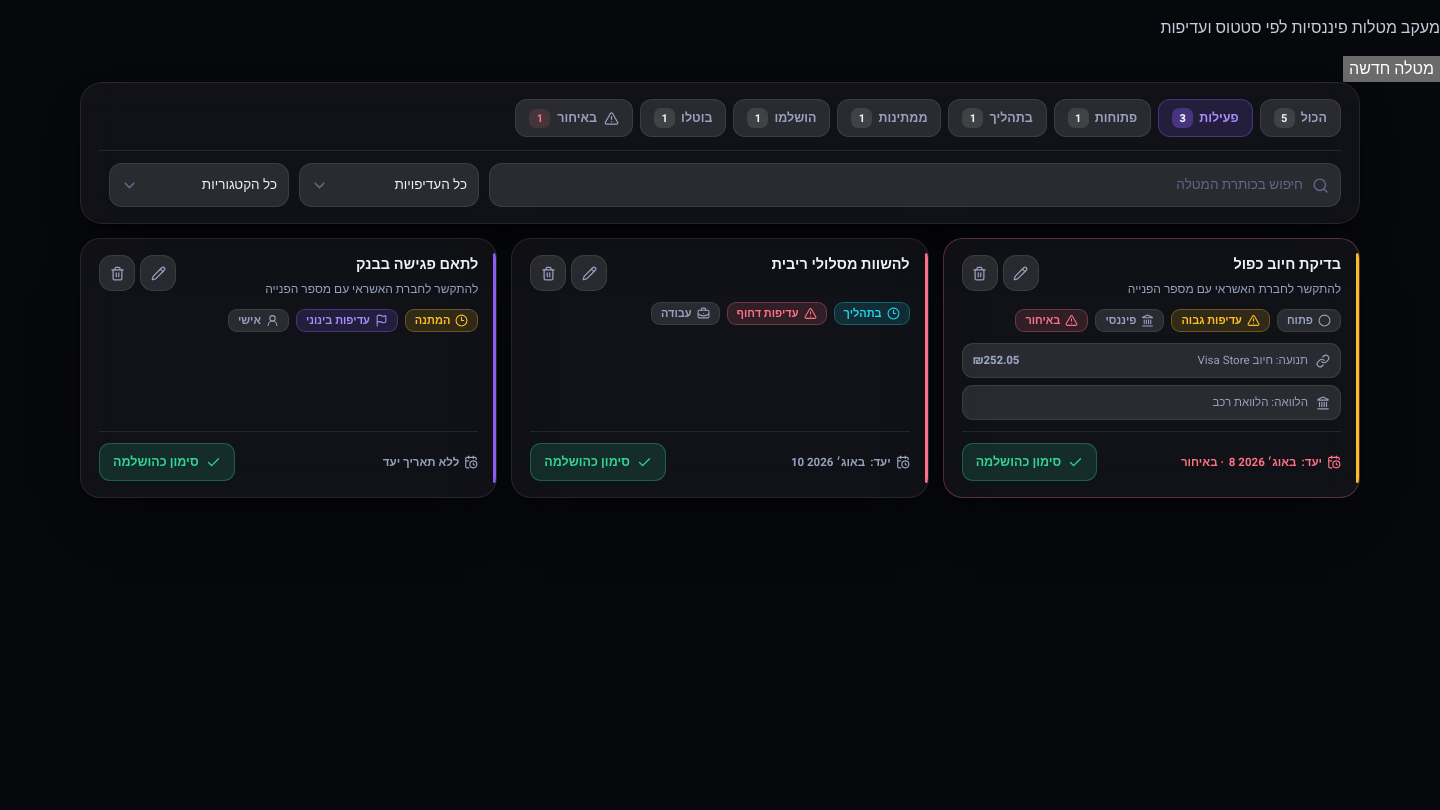
Tasks status and deletion mutations › uses accessible confirmation, cancels safely, and retains the task after delete failure
Click the button named "מחיקת המטלה בדיקת חיוב כפול" at (980, 273), box [962, 255, 998, 291]
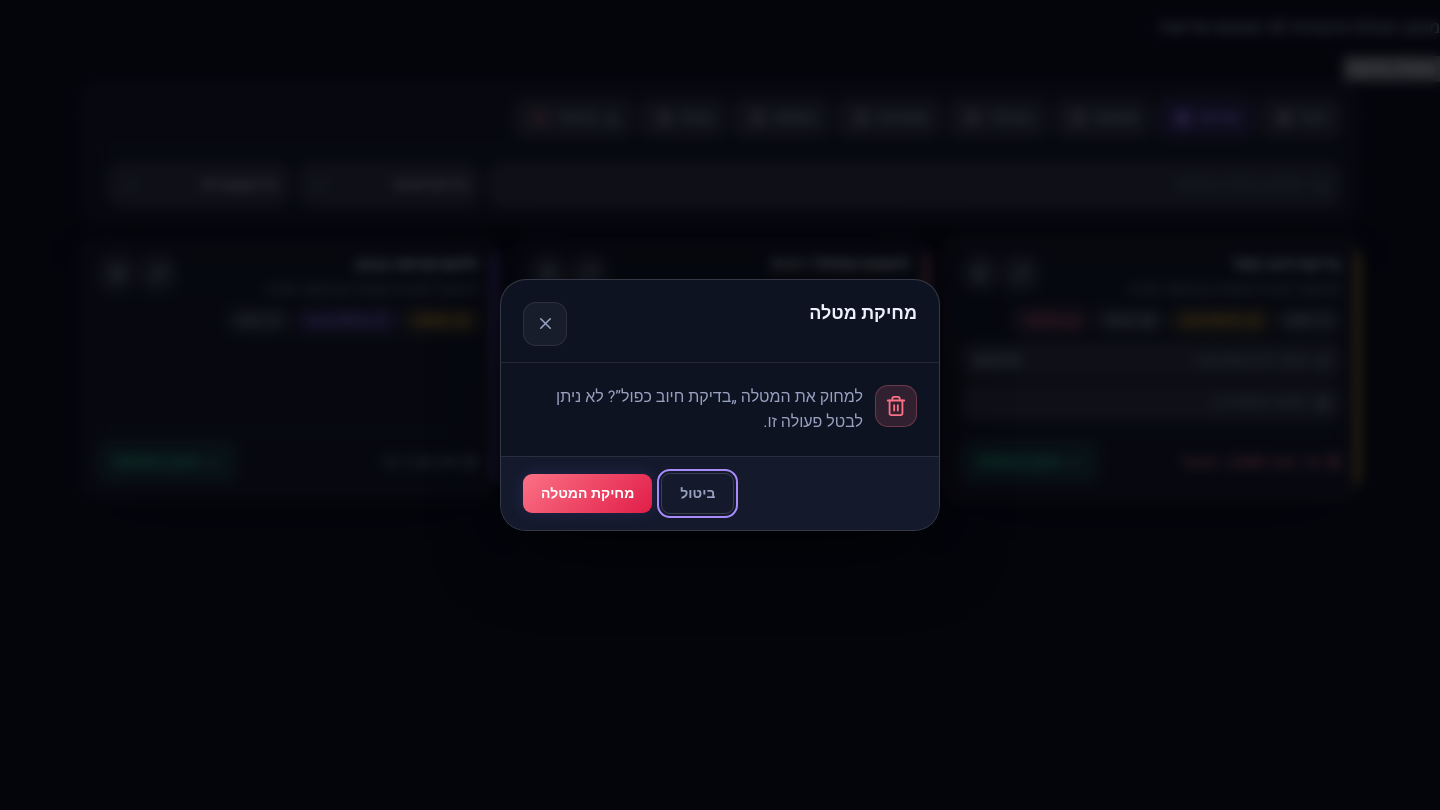
Click the button "ביטול" at (698, 494), box [661, 473, 734, 514]
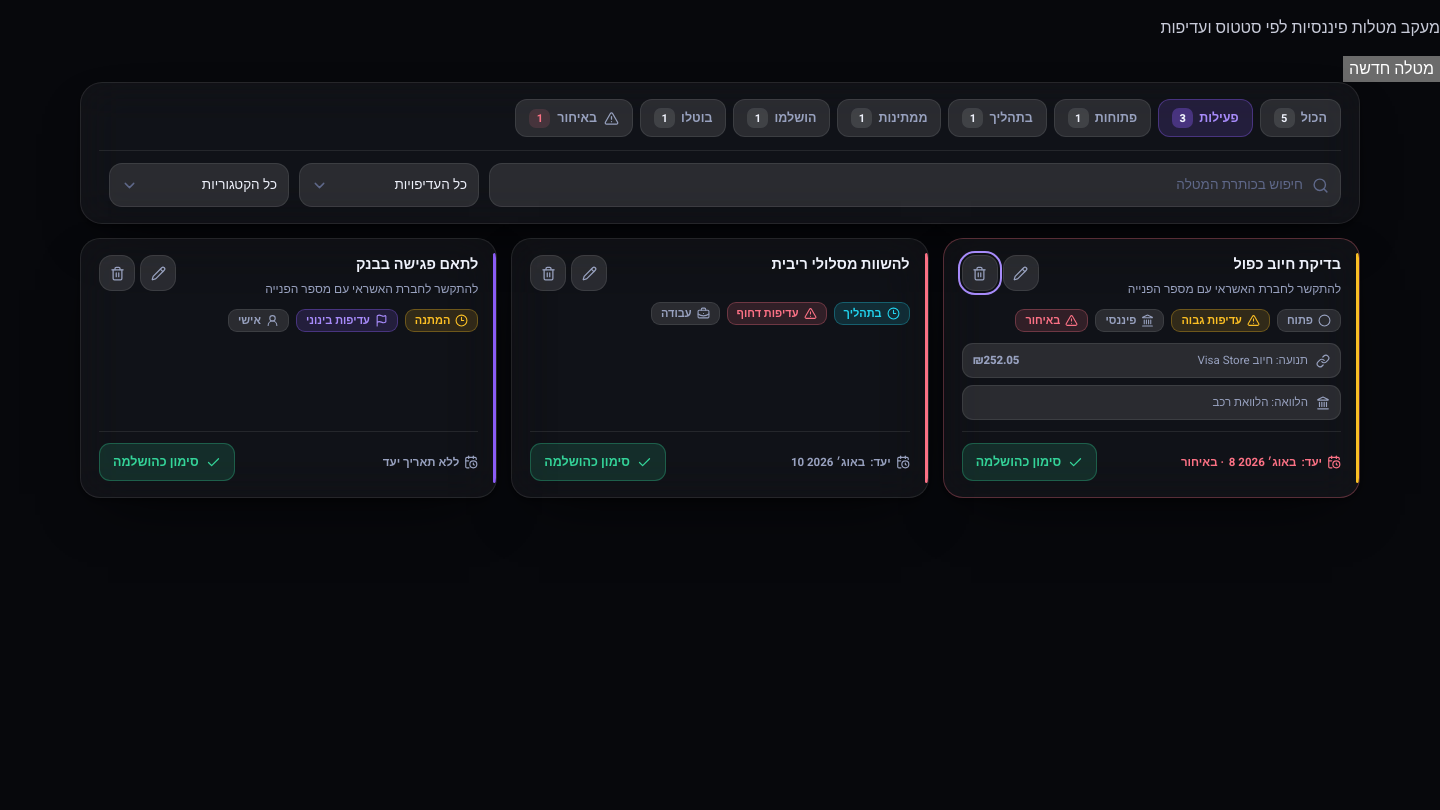
Click the button named "מחיקת המטלה בדיקת חיוב כפול" at (980, 273), box [962, 255, 998, 291]
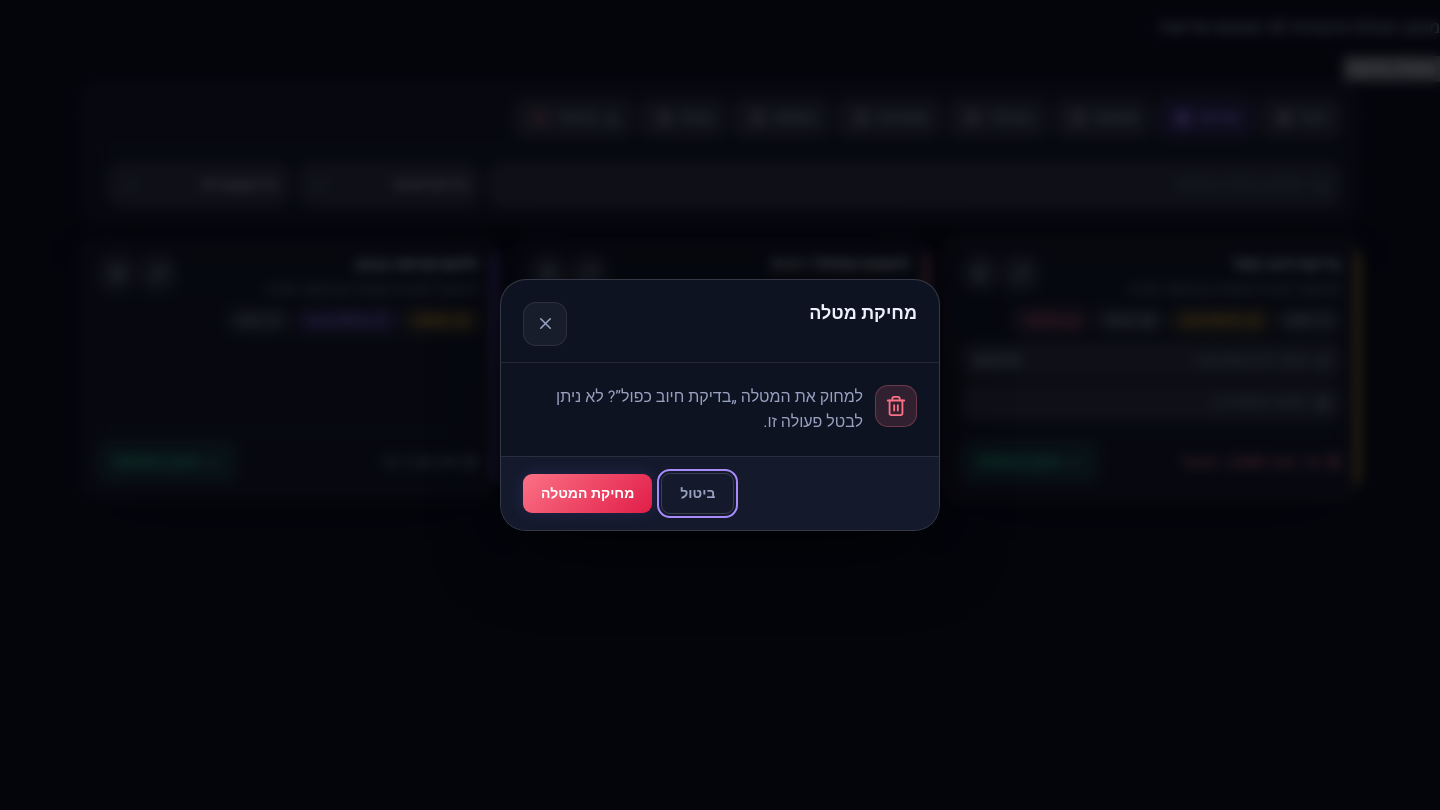
Click the button "מחיקת המטלה" at (588, 494), box [523, 474, 652, 513]
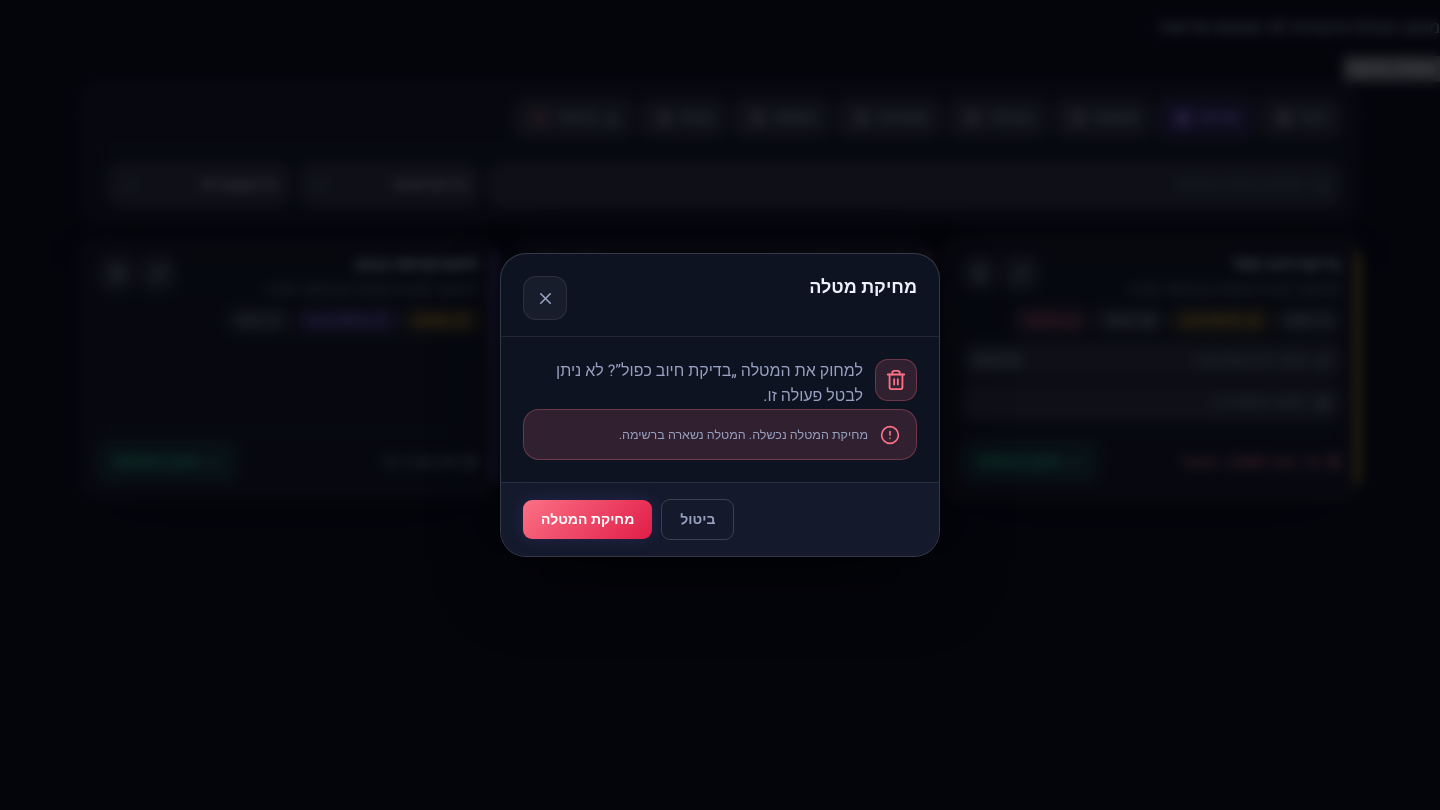
Expected: the element "בדיקת חיוב כפול" is shown, [943, 238, 1360, 498]
Now the text "מחיקת המטלה נכשלה. המטלה נשארה ברשימה." is shown, box [619, 426, 868, 444]
Click the button "מחיקת המטלה" at (588, 519), box [523, 500, 652, 539]
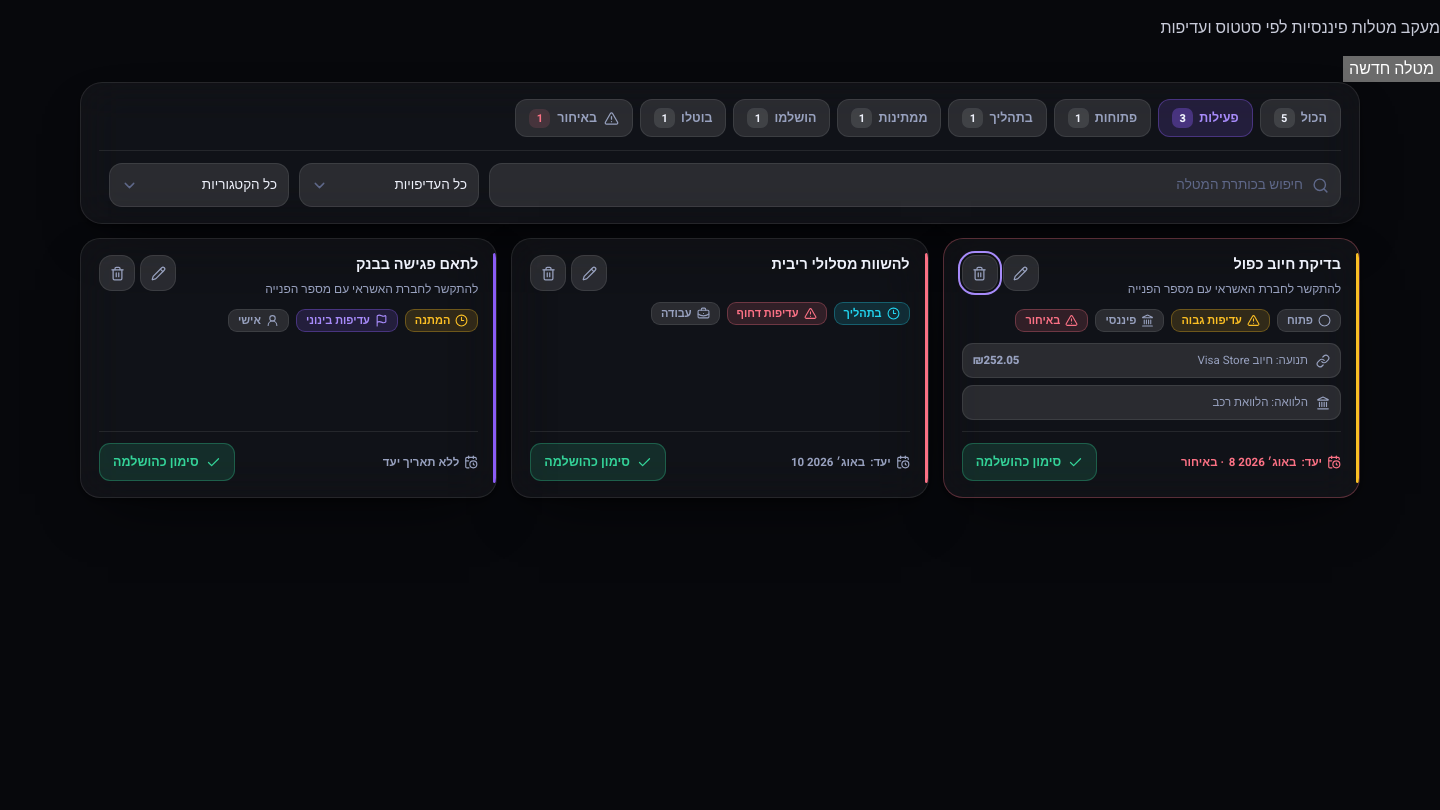
Now the heading "מחיקת מטלה" is gone
